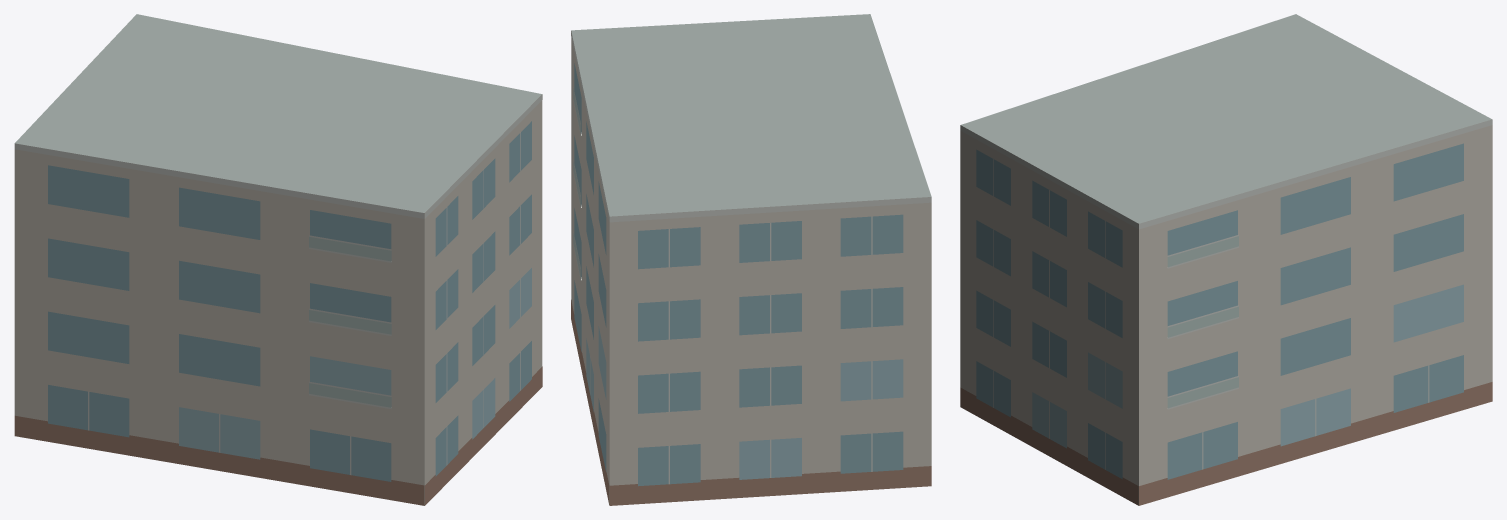
The model's file is survey-upis-32971099.glb.
3 views of the same model, side by side, from view 1: azimuth 30°, elevation 25°; view 2: azimuth 150°, elevation 25°; view 3: azimuth 270°, elevation 25° (orthographic). The views are drawn at different scales.
Parts seen in each view (by area): view 1: survey-upis-32971099.tmp; view 2: survey-upis-32971099.tmp; view 3: survey-upis-32971099.tmp.
Boxes of the visible parts, left/top/right/bottom form: survey-upis-32971099.tmp: left=14, top=14, right=542, bottom=505; survey-upis-32971099.tmp: left=571, top=14, right=931, bottom=505; survey-upis-32971099.tmp: left=960, top=14, right=1492, bottom=505.
Size of the model in its own units: 19.47 by 12.2 by 20.86.
